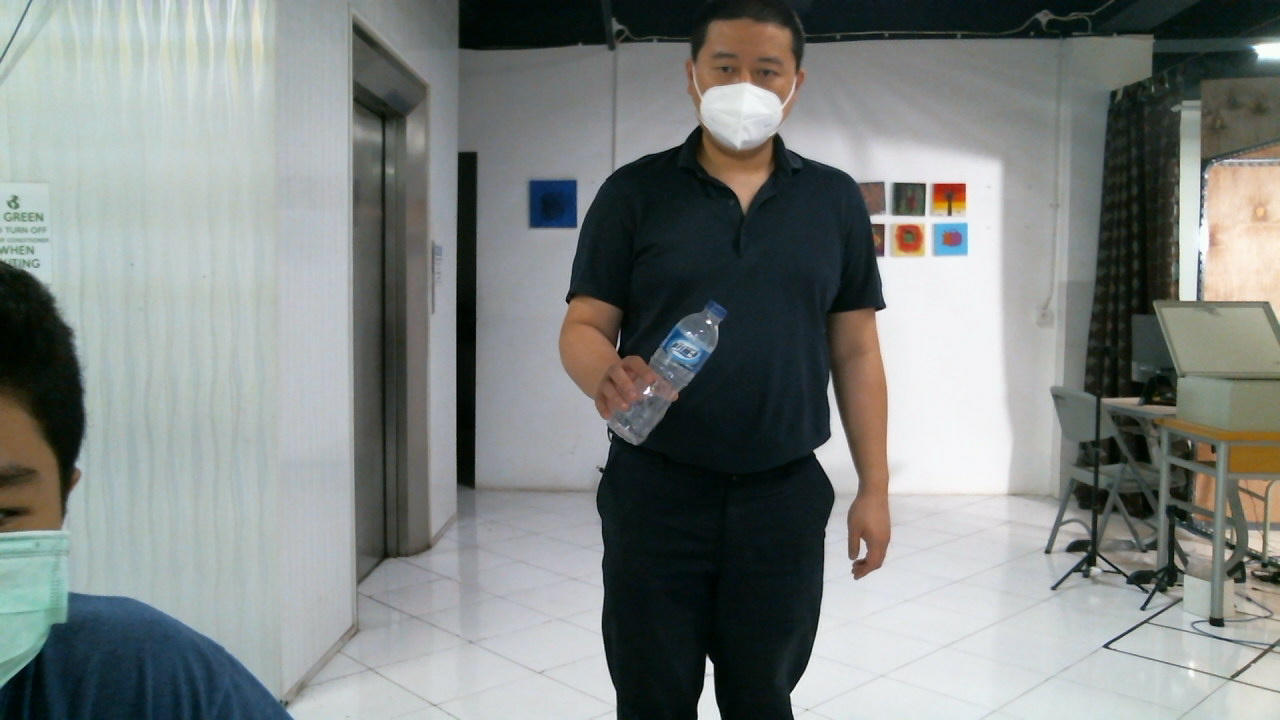Bottle: (608, 297, 724, 450)
